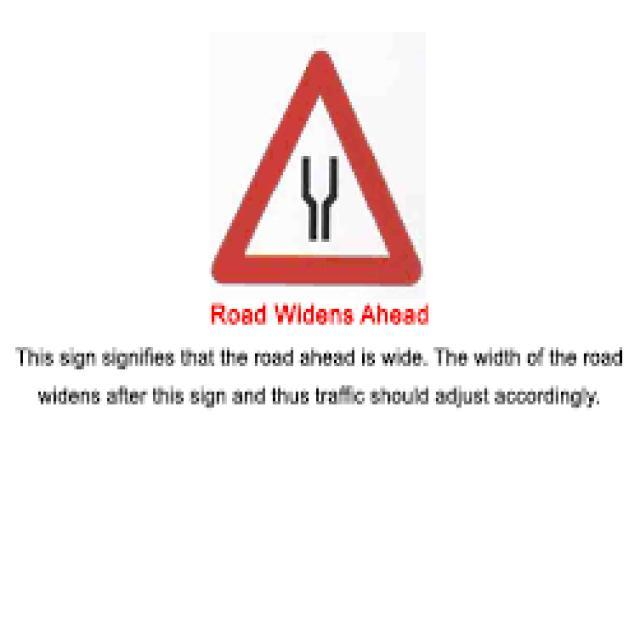road widens ahead: (209, 54, 424, 287)
